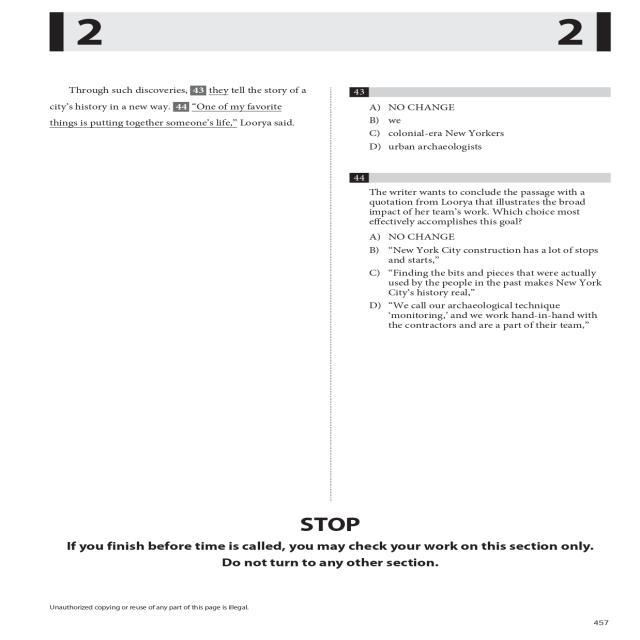Answer_Block: (335, 227, 623, 340), (335, 99, 623, 160)
Instruction: (46, 80, 326, 506)
Question_Answer_Block: (335, 171, 623, 340), (335, 80, 623, 160)
Question_Block: (335, 170, 623, 228), (335, 80, 623, 100)
Question_Paper_Area: (335, 80, 623, 502), (46, 80, 326, 506)
